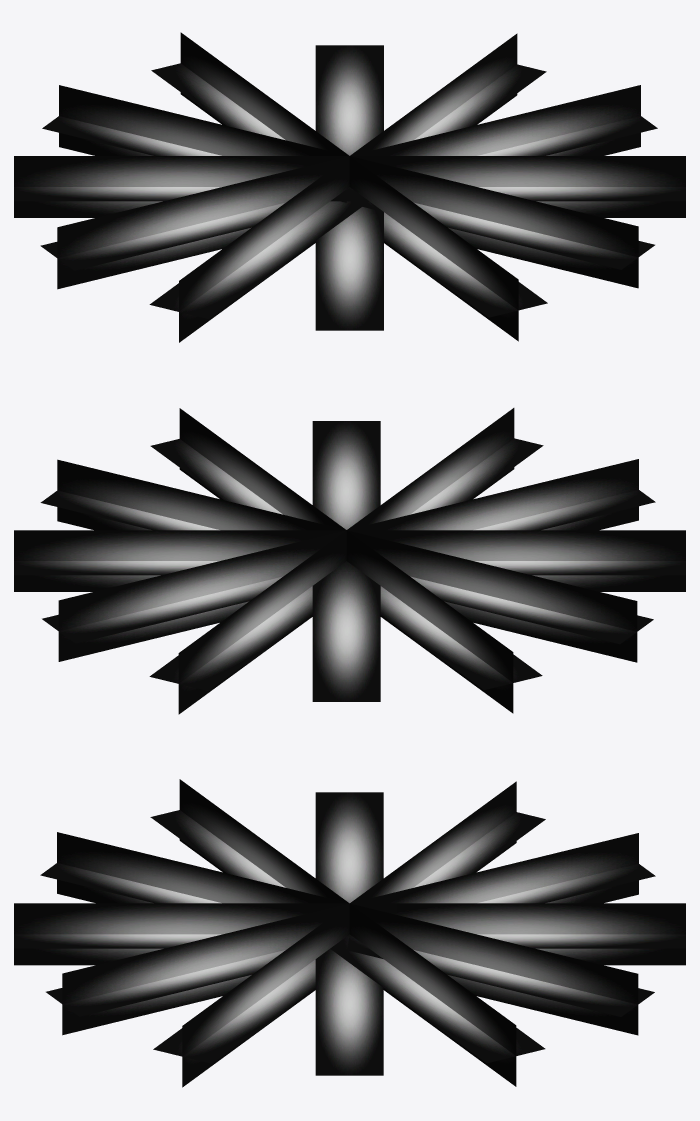
File: vfx_kurp_0913.dae
3 views of the same model, one above another, from view 1: azimuth 30°, elevation 25°; view 2: azimuth 150°, elevation 25°; view 3: azimuth 270°, elevation 25° (orthographic).
Parts seen in each view (by area): view 1: vfx_kurp_0913; view 2: vfx_kurp_0913; view 3: vfx_kurp_0913.
Part boxes in pixels (x1,y1,x2,y2): vfx_kurp_0913: [14, 32, 685, 342]; vfx_kurp_0913: [14, 408, 685, 714]; vfx_kurp_0913: [14, 779, 685, 1087].
Size of the model in its own units: 17.91 by 17.95 by 1.82.
Materials: 1 (1 with a texture image).
